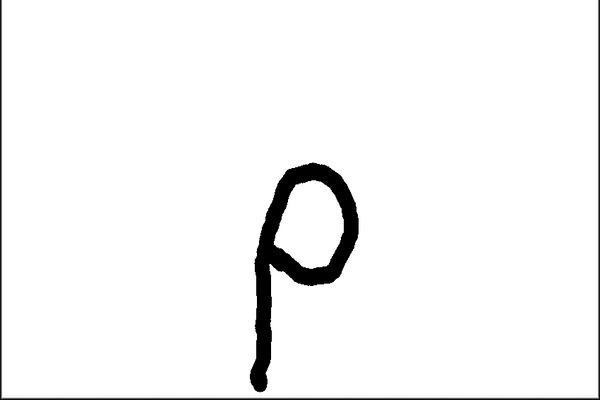P: (233, 154, 370, 399)
